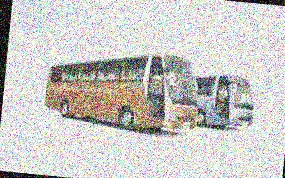bus: (41, 42, 205, 137), (190, 70, 258, 131)
